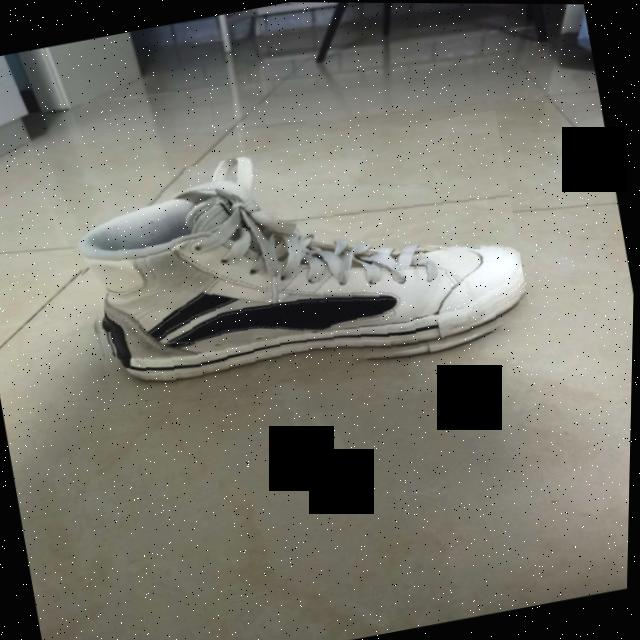shoe: (59, 107, 540, 421)
